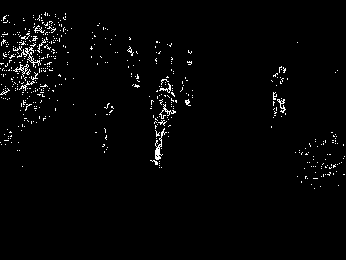person: (259, 59, 296, 138), (145, 78, 178, 166)
